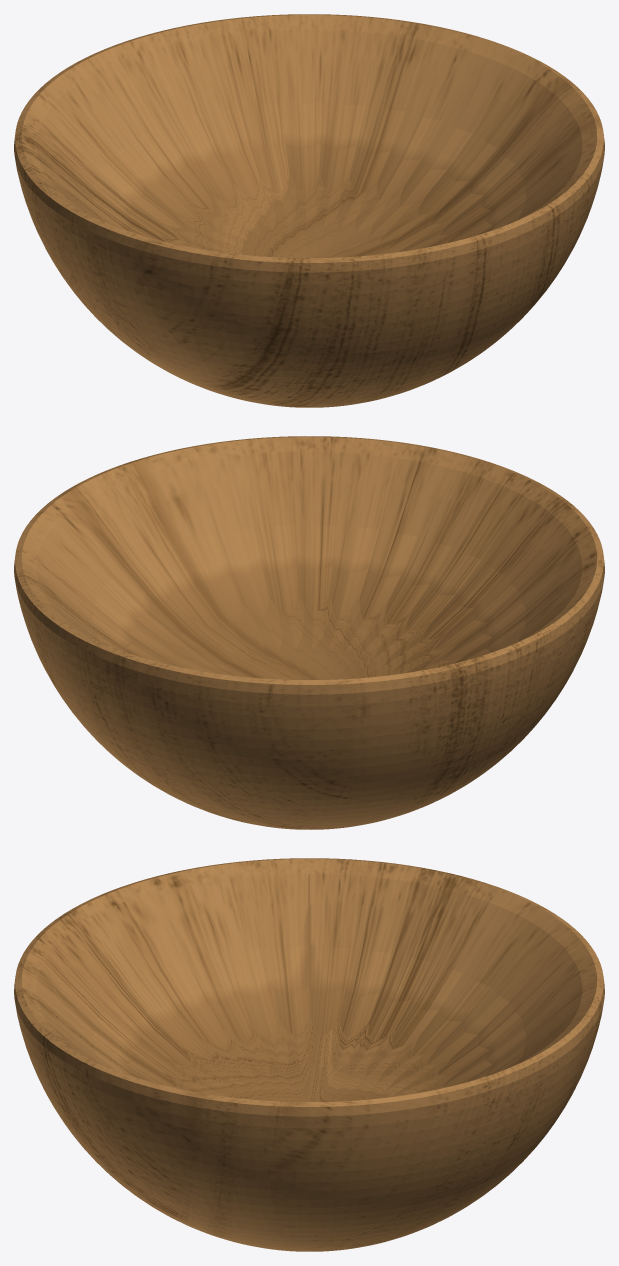
The model's file is bowl 1.fbx.
The picture shows the model from 3 angles, top to bottom: view 1: azimuth 30°, elevation 25°; view 2: azimuth 150°, elevation 25°; view 3: azimuth 270°, elevation 25°; orthographic projection.
Parts seen in each view (by area): view 1: Sphere; view 2: Sphere; view 3: Sphere.
Part boxes in pixels (x1=…): Sphere: x1=14, y1=14, x2=604, y2=407; Sphere: x1=14, y1=436, x2=604, y2=829; Sphere: x1=14, y1=858, x2=604, y2=1251.
Bounding box in the file's own units: 438 × 200 × 438.
Materials: 1 (1 with a texture image).
